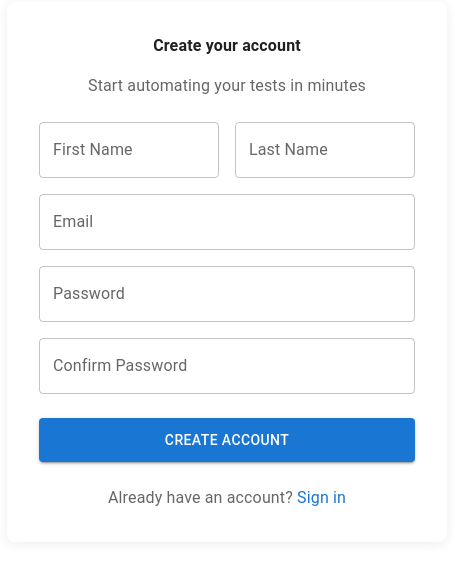
Scenario: SignUpPage › shows uppercase required error when password has no uppercase letter
This screenshot has width=455, height=583.
Type "new@example.com" into the field labelled "Email" at x=227, y=222, box [39,194,415,250]
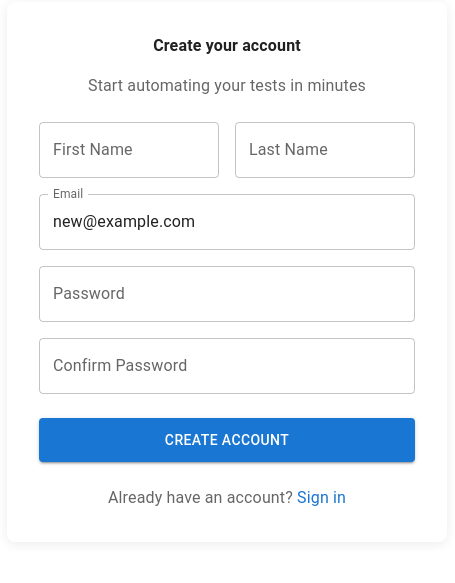
Type "password1" into the password field labelled "Password" at x=227, y=294, box [39,266,415,322]
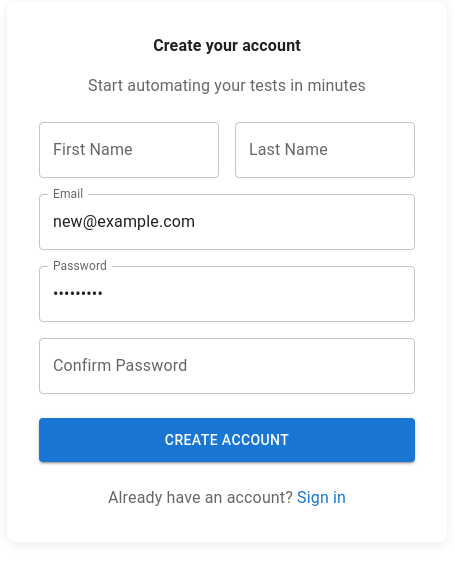
Type "password1" into the password field labelled "Confirm Password" at x=227, y=366, box [39,338,415,394]
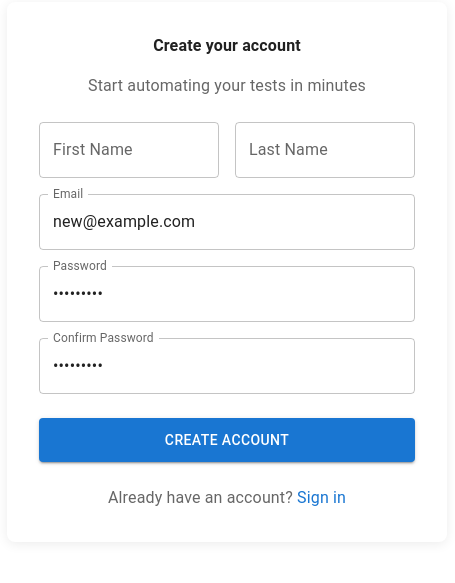
Click the button "Create Account" at x=227, y=440, box [39,418,415,462]
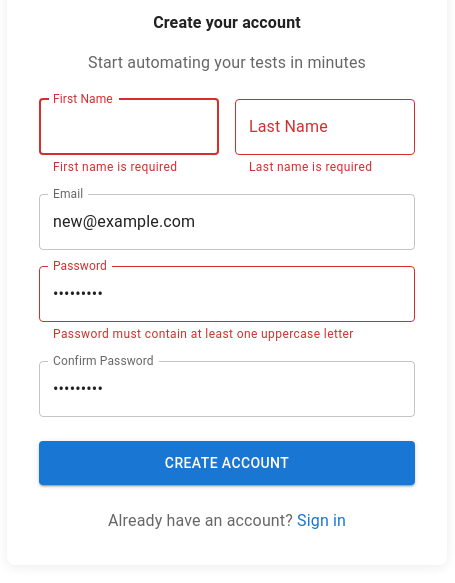
Expected: the text "Password must contain at least one uppercase letter" is shown, [53,325,401,345]
